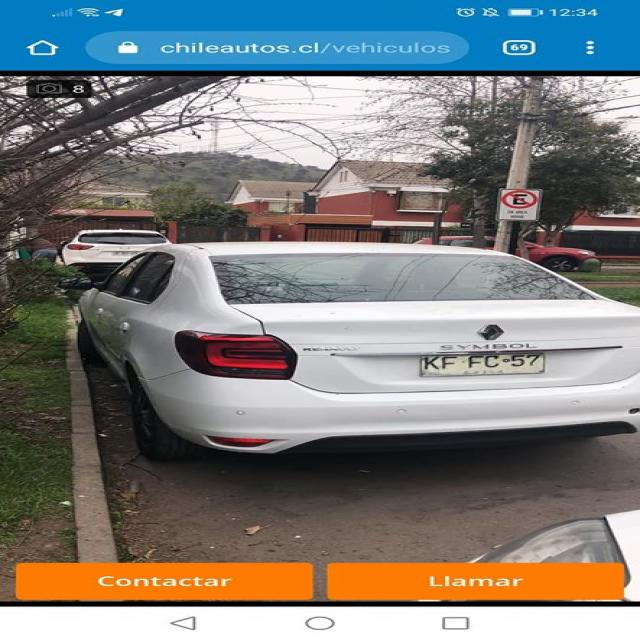patente: (416, 351, 545, 377)
